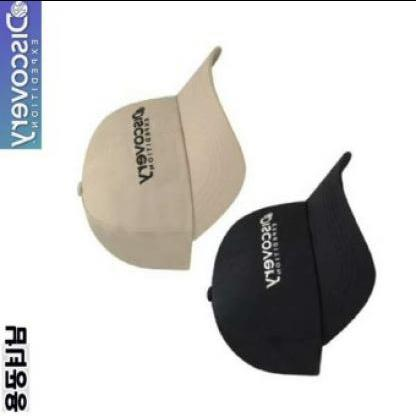cap: (66, 33, 248, 280)
